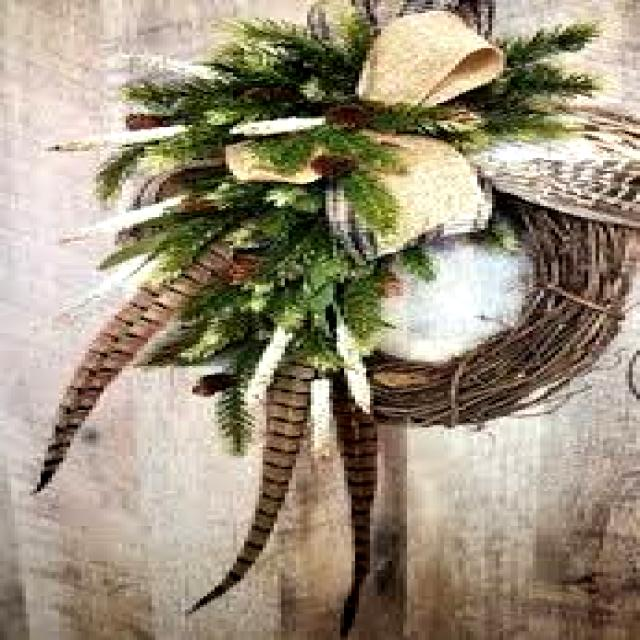Phasianus Colchicus: (34, 271, 198, 497), (182, 362, 321, 614), (335, 383, 378, 639)
